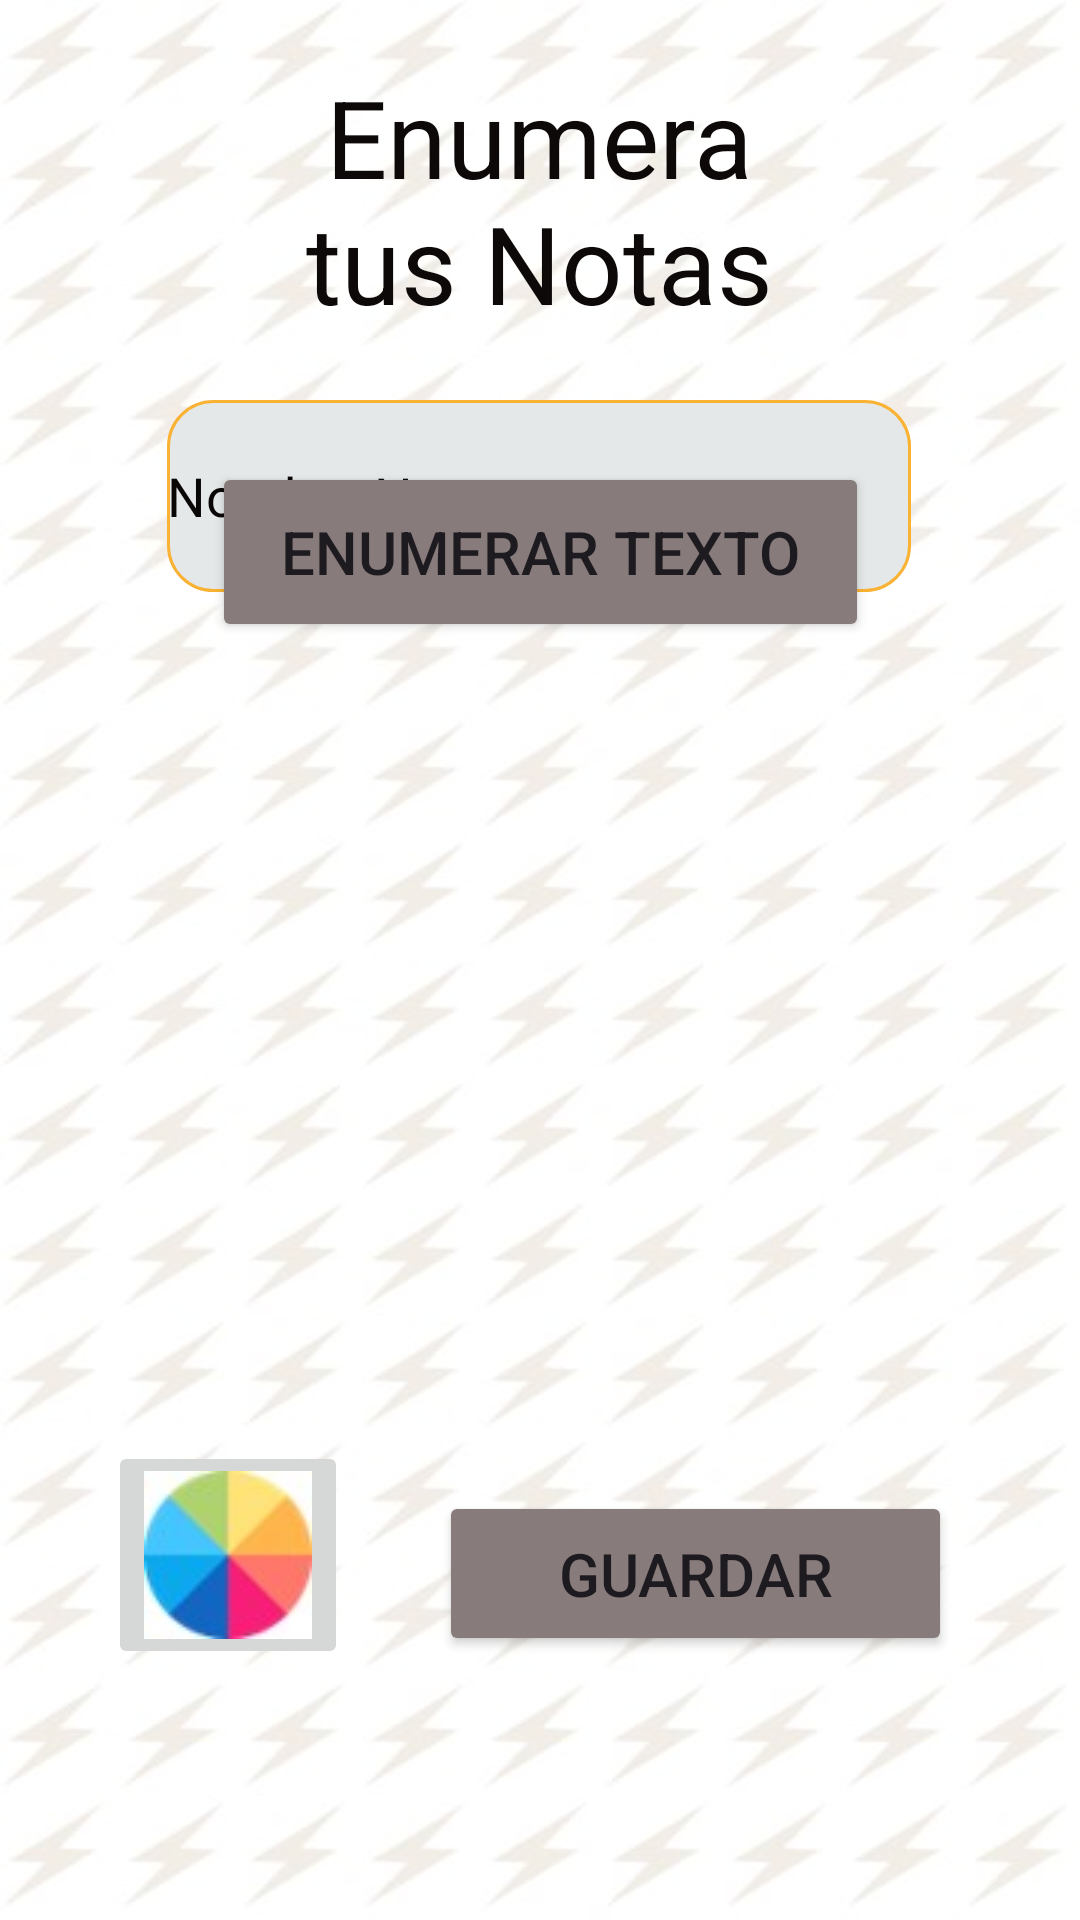

Named icons in this screenshot (1080×1920) and their centers, [x,y]:
selecciona color: [228,1557]
